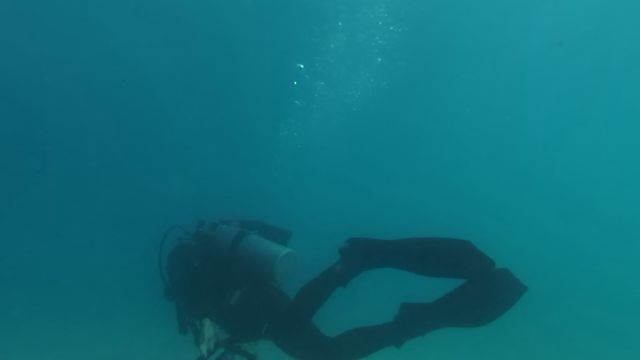Diver: (149, 210, 530, 358)
